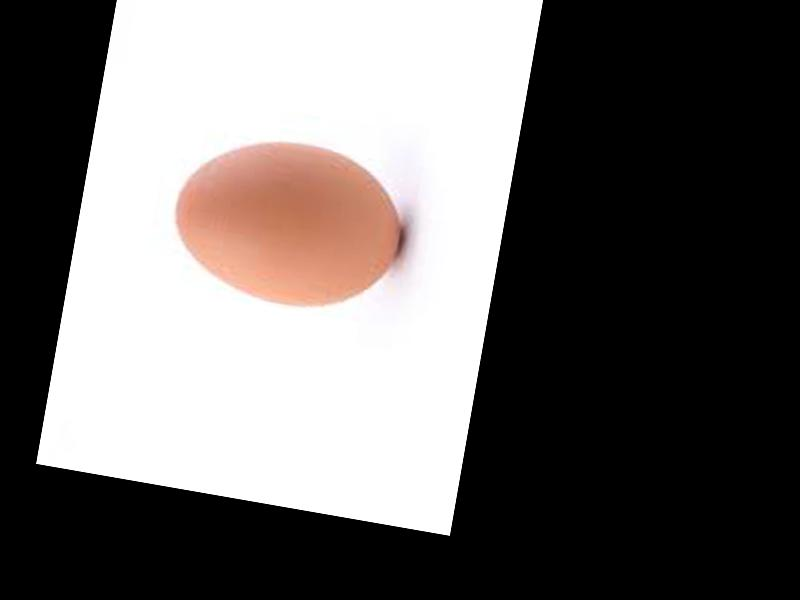Eggs: (161, 122, 412, 319)
